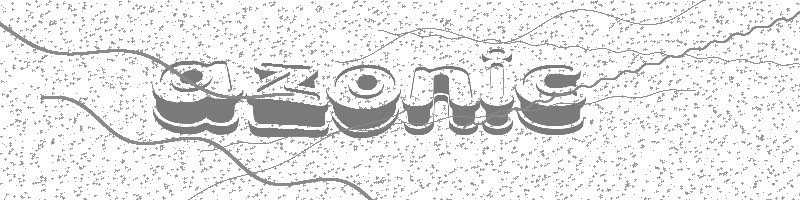a: (150, 54, 247, 138)
c: (516, 63, 586, 136)
i: (480, 46, 515, 137)
n: (400, 63, 481, 138)
o: (328, 60, 401, 140)
z: (246, 57, 331, 140)
